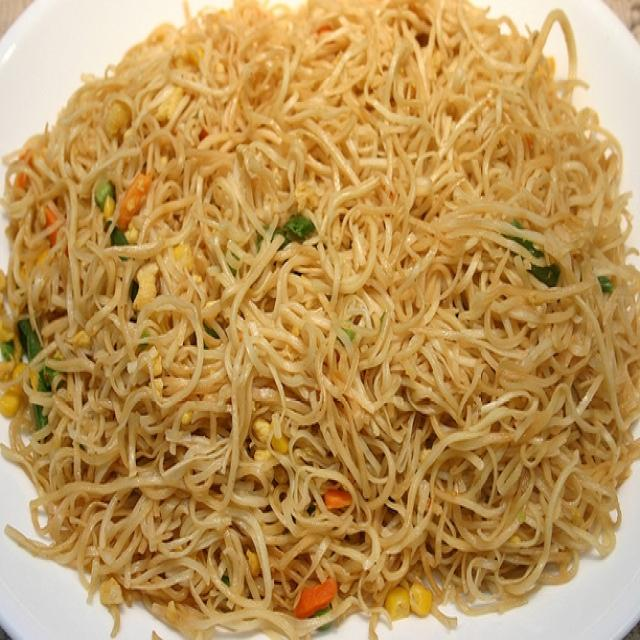面条主食: (8, 16, 624, 615)
